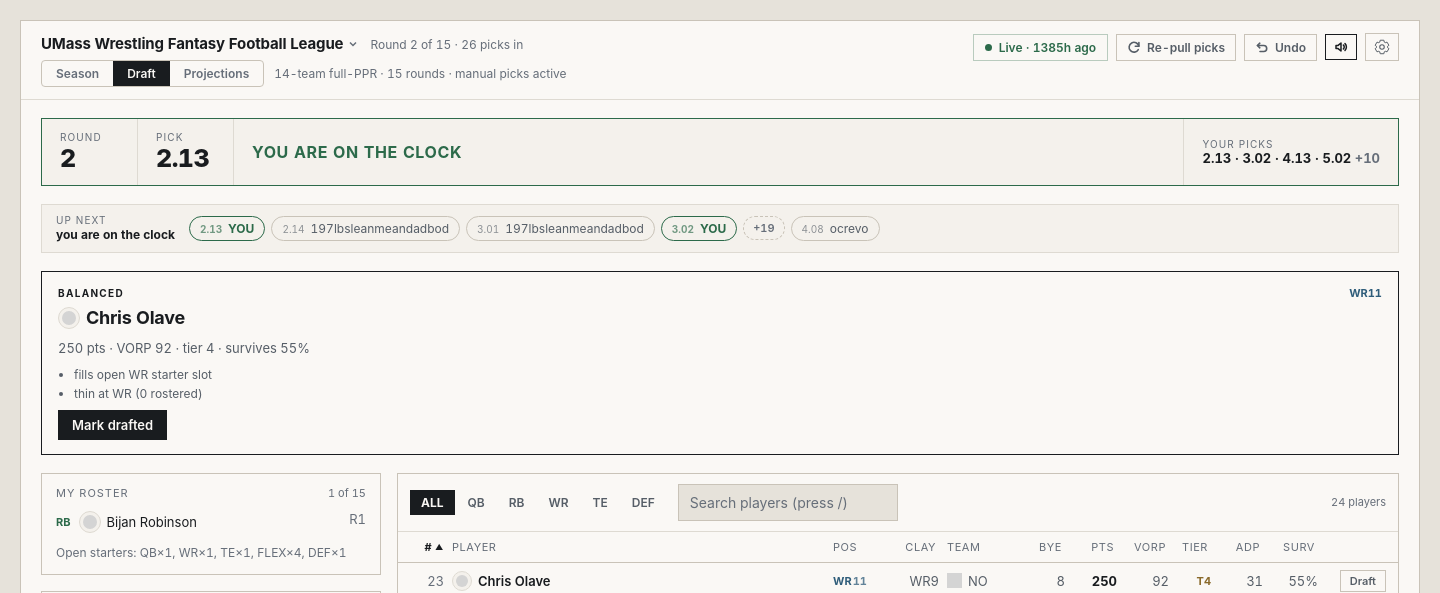
Test: App live workflow › reports how many players the rebuilt board covers after a refresh
Expected: the heading "UMass Wrestling Fantasy Football League" is shown, [41, 33, 358, 54]
Click the button named "Settings" at (1382, 47), box [1365, 33, 1399, 61]
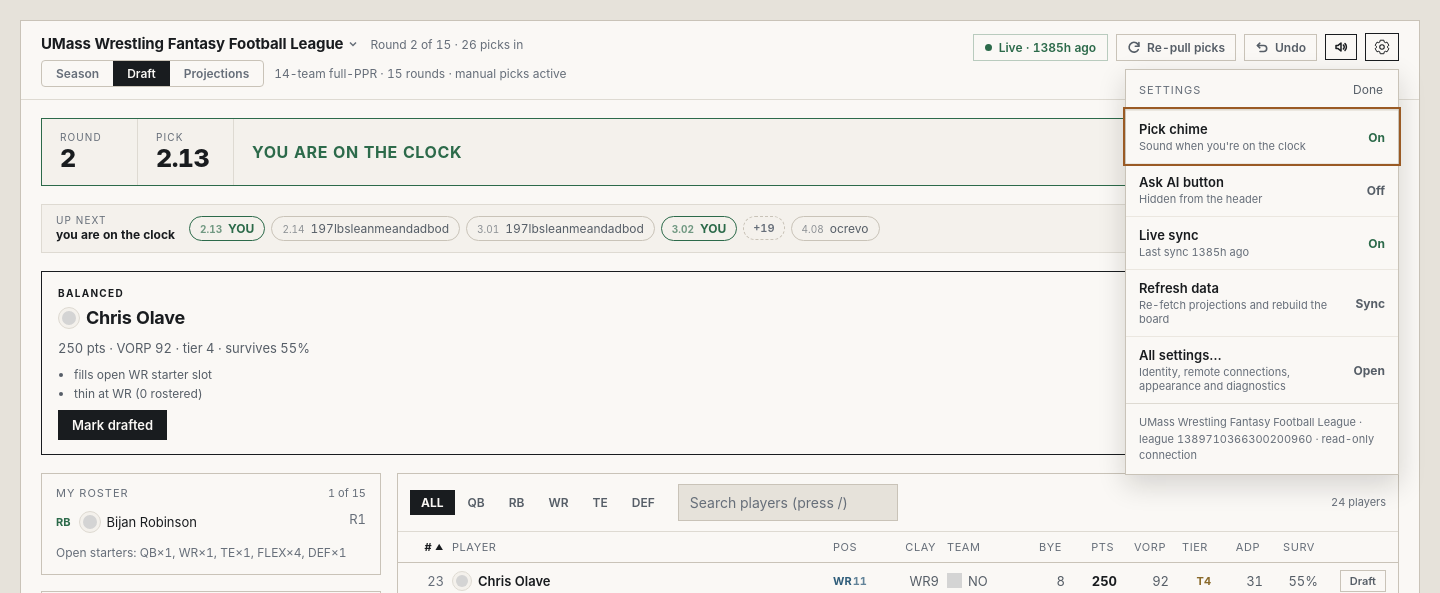
Click the menu item "Refresh data Re-fetch projections and rebuild the board Sync" at (1262, 302), box [1126, 269, 1398, 336]
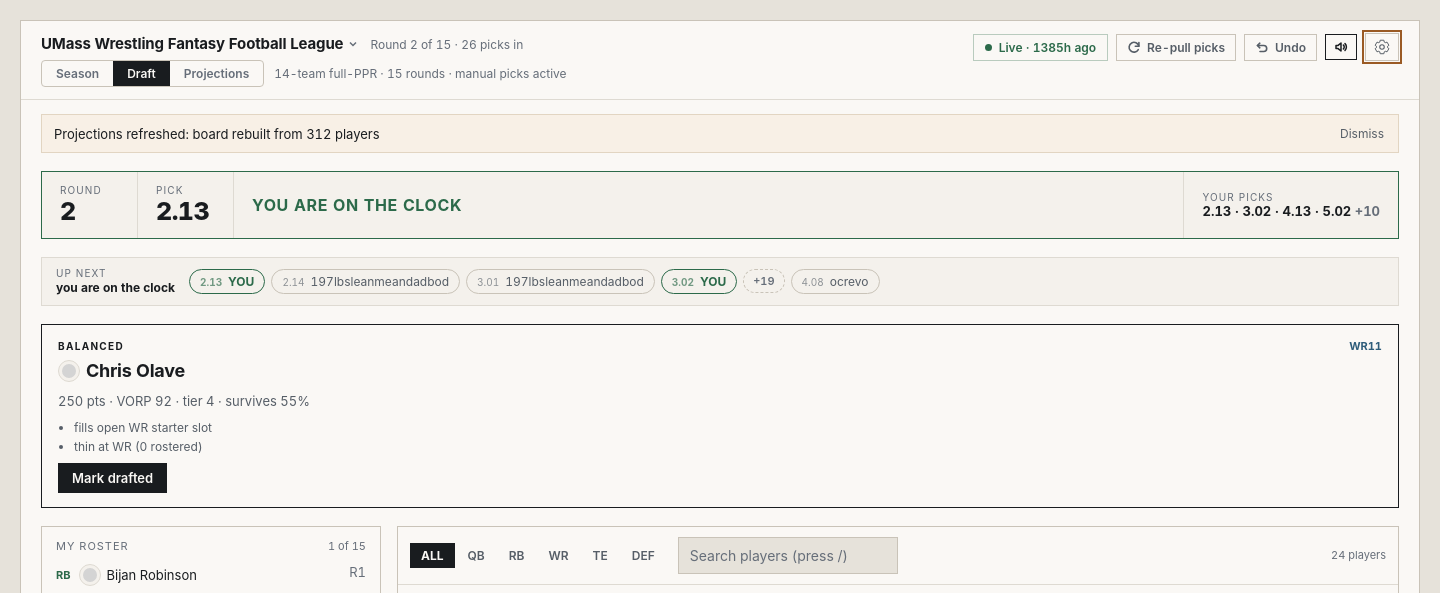
Now the text "Projections refreshed: board rebuilt from 312 players" is shown, box [54, 126, 380, 142]
